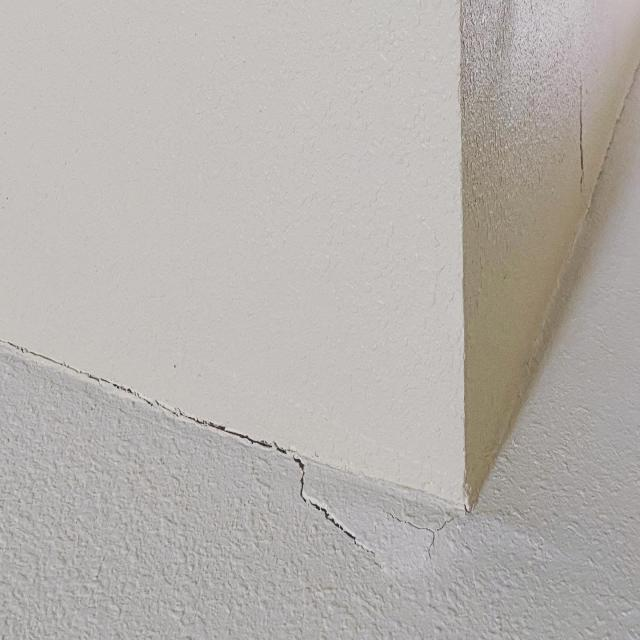leak: (1, 338, 304, 497), (303, 492, 378, 560), (384, 505, 456, 560)
